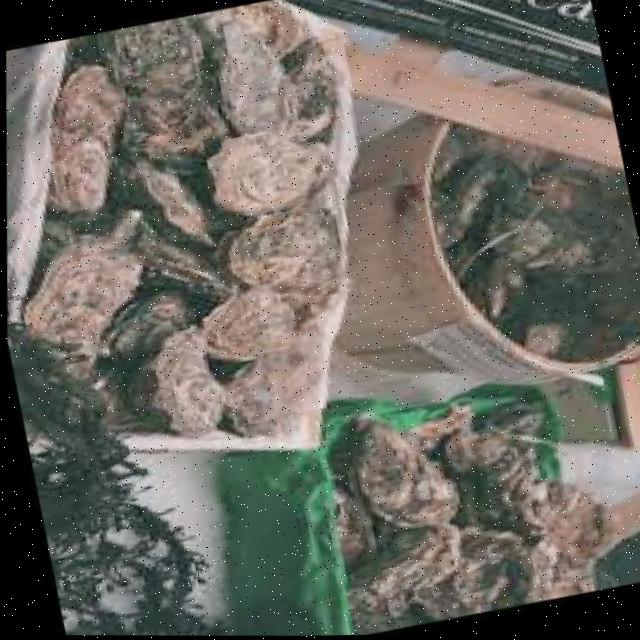Oyster-Closed: (114, 151, 225, 247)
Oyster-Indeterminate: (25, 210, 142, 375), (207, 1, 331, 142), (224, 325, 332, 446), (96, 281, 211, 390), (228, 204, 344, 312), (351, 523, 462, 632), (128, 211, 237, 321), (438, 426, 547, 533), (93, 17, 203, 123), (49, 65, 124, 210), (420, 526, 532, 619), (208, 131, 330, 214), (358, 424, 456, 527), (530, 482, 611, 600), (124, 85, 230, 169), (203, 286, 312, 362), (155, 327, 224, 433), (336, 487, 369, 570)
